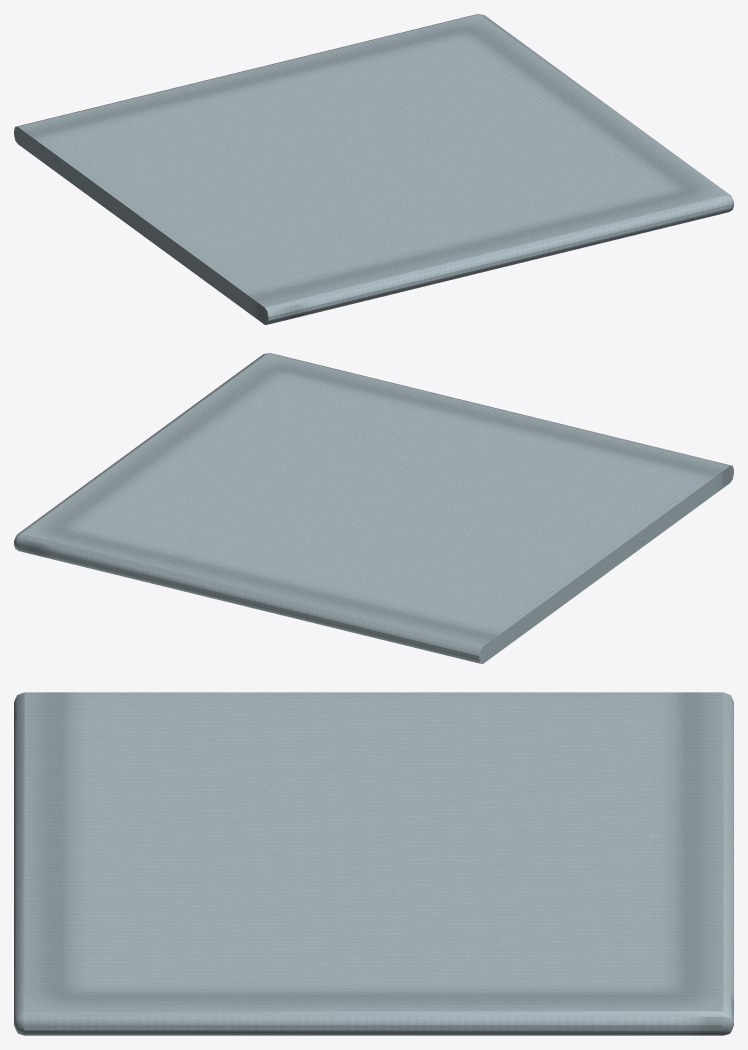
The model's file is 18-rounded-bottom-tin-rim-2.fbx.
3 renders of one model, top to bottom at view 1: azimuth 30°, elevation 25°; view 2: azimuth 150°, elevation 25°; view 3: azimuth 270°, elevation 25°, orthographic. The views are drawn at different scales.
Parts seen in each view (by area): view 1: rounded-bottom-tin-rim-2; view 2: rounded-bottom-tin-rim-2; view 3: rounded-bottom-tin-rim-2.
Part boxes in pixels (x1,y1,x2,y2): rounded-bottom-tin-rim-2: (14,14,733,324); rounded-bottom-tin-rim-2: (14,353,733,663); rounded-bottom-tin-rim-2: (14,692,733,1035).
Bounding box in the file's own units: 8500 × 300 × 8000.
1 material, 1 textured.
